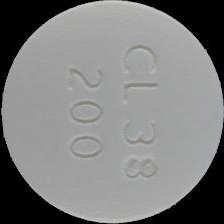43199-038: (0, 0, 224, 224)
